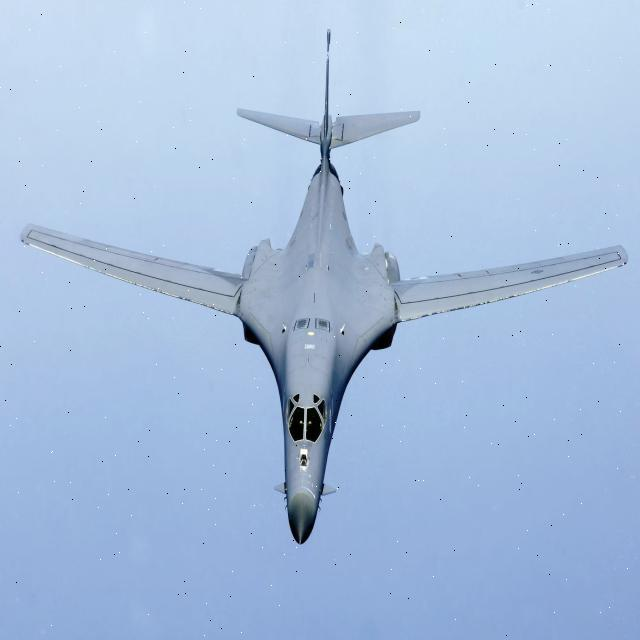B1: (13, 26, 636, 556)
